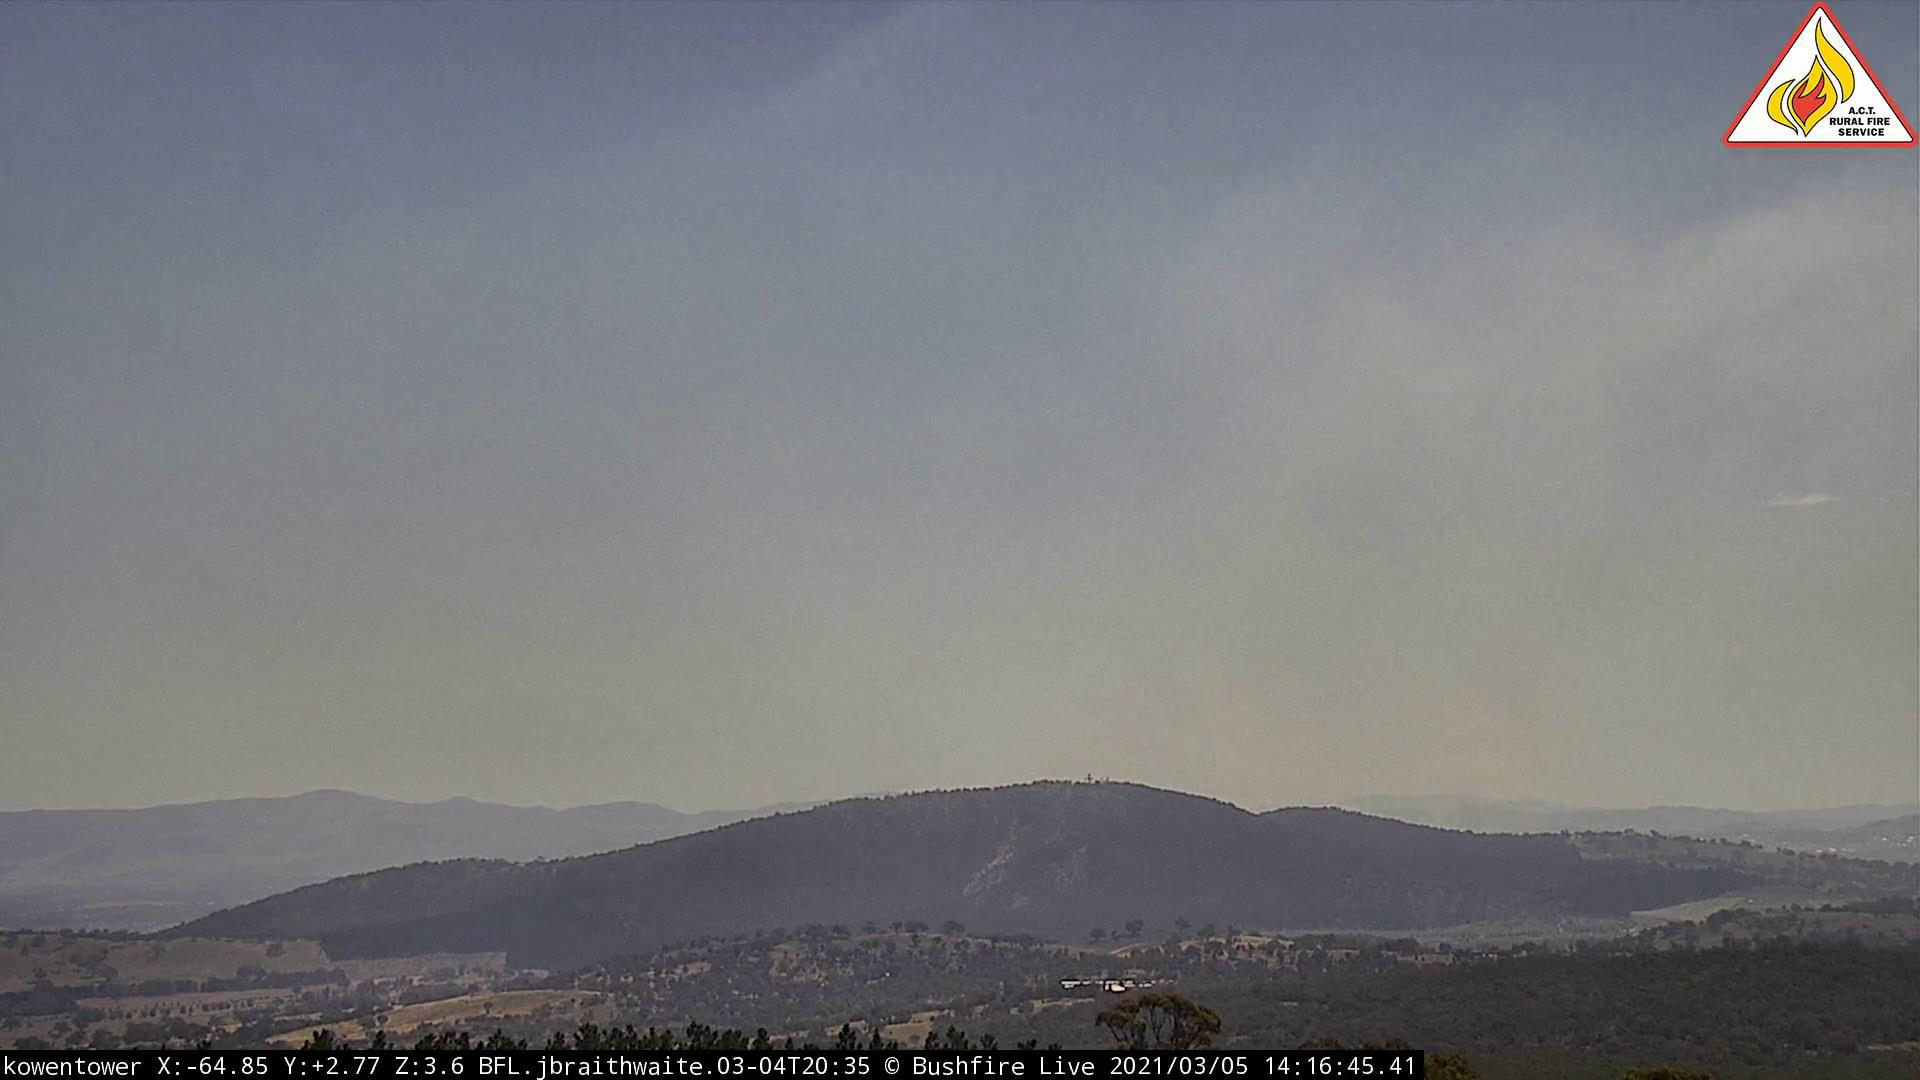Smoke: (1307, 516, 1692, 843)
